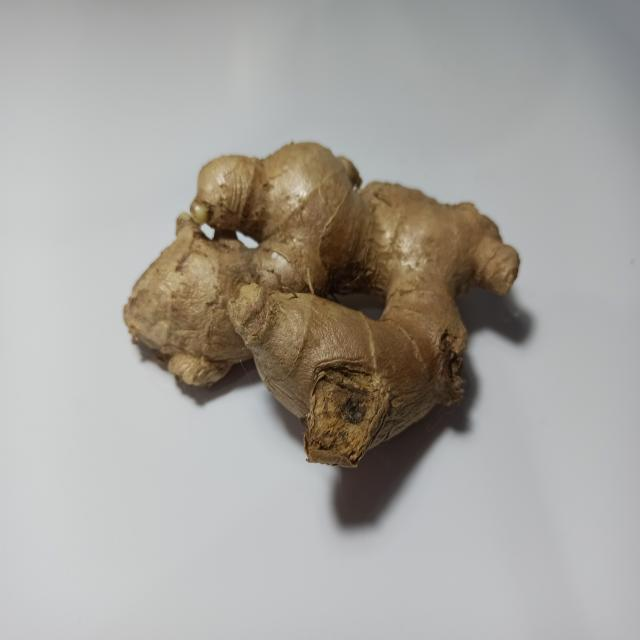ginger: (126, 151, 514, 463)
